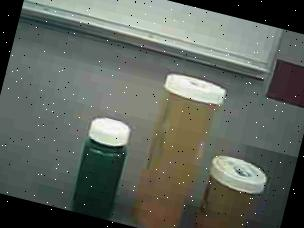Bottle A: (119, 63, 228, 228)
Bottle B: (192, 151, 272, 228)
Bottle C: (64, 112, 136, 222)
